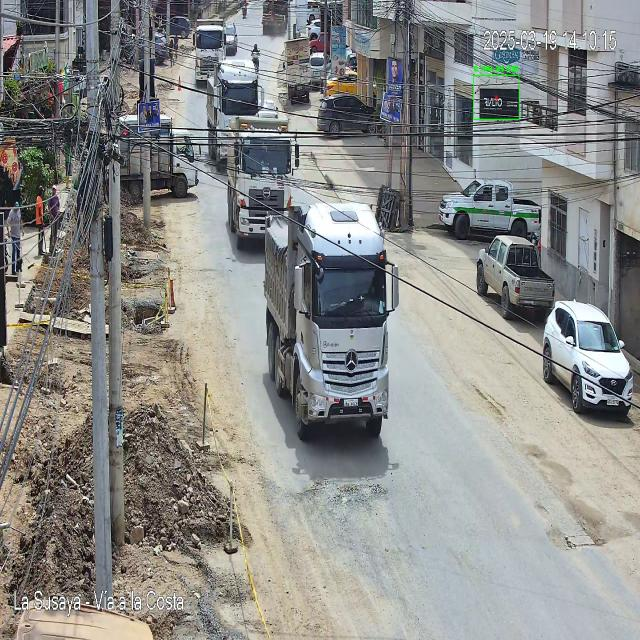CMT: (438, 175, 542, 242)
SUV: (542, 302, 632, 420)
TRUCK: (264, 202, 399, 443), (226, 129, 296, 255)
